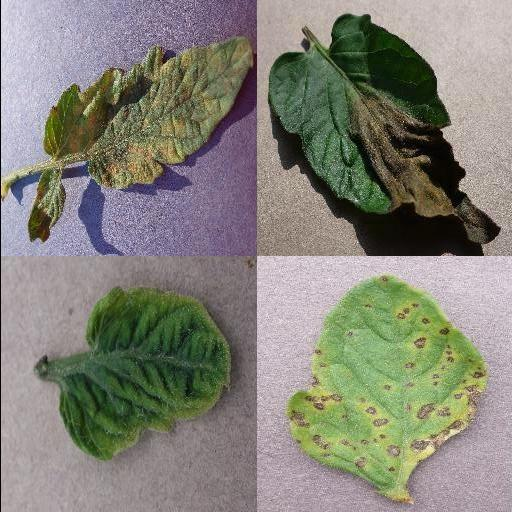Late Blight: (268, 14, 502, 248)
Leaf Mold: (42, 37, 254, 190)
Septoria: (286, 273, 488, 503)
Yellow Leaf Curl Virus: (57, 286, 233, 462)
